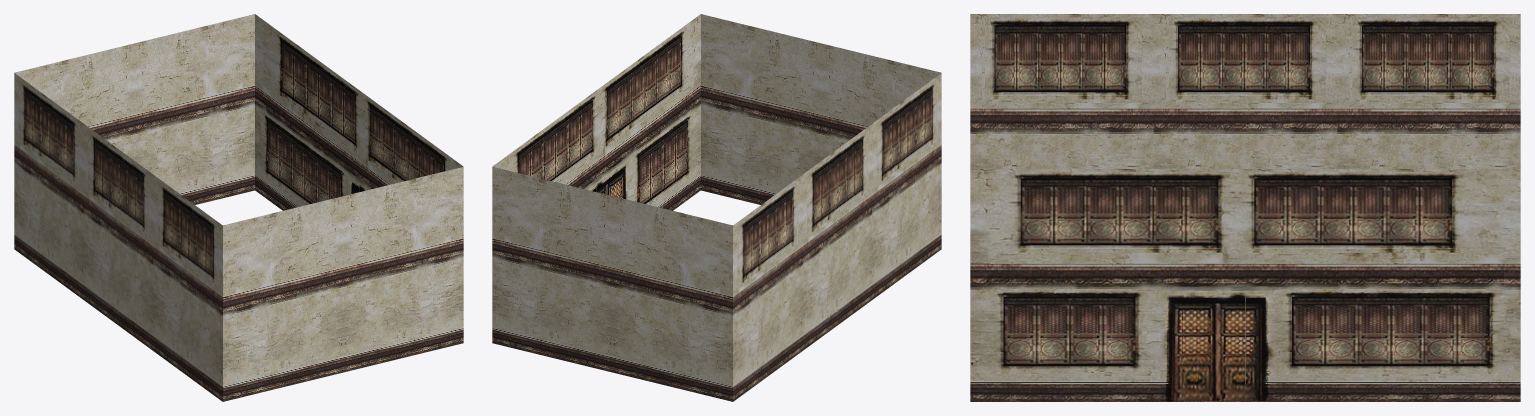
The picture shows the model from 3 angles, left to right: view 1: azimuth 30°, elevation 25°; view 2: azimuth 150°, elevation 25°; view 3: azimuth 270°, elevation 25°; orthographic projection. The views are drawn at different scales.
Parts seen in each view (by area): view 1: Box61; view 2: Box61; view 3: Box61.
Part boxes in pixels (<box>): Box61: <box>14,14,463,401</box>; Box61: <box>492,14,941,401</box>; Box61: <box>970,14,1520,401</box>.
Bounding box in the file's own units: 200 × 140 × 300.
